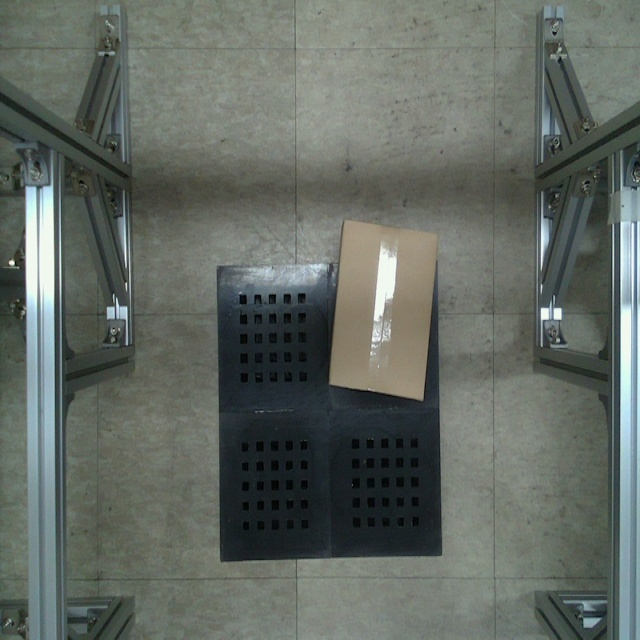box: (329, 219, 437, 403)
pallet: (214, 261, 441, 569)
